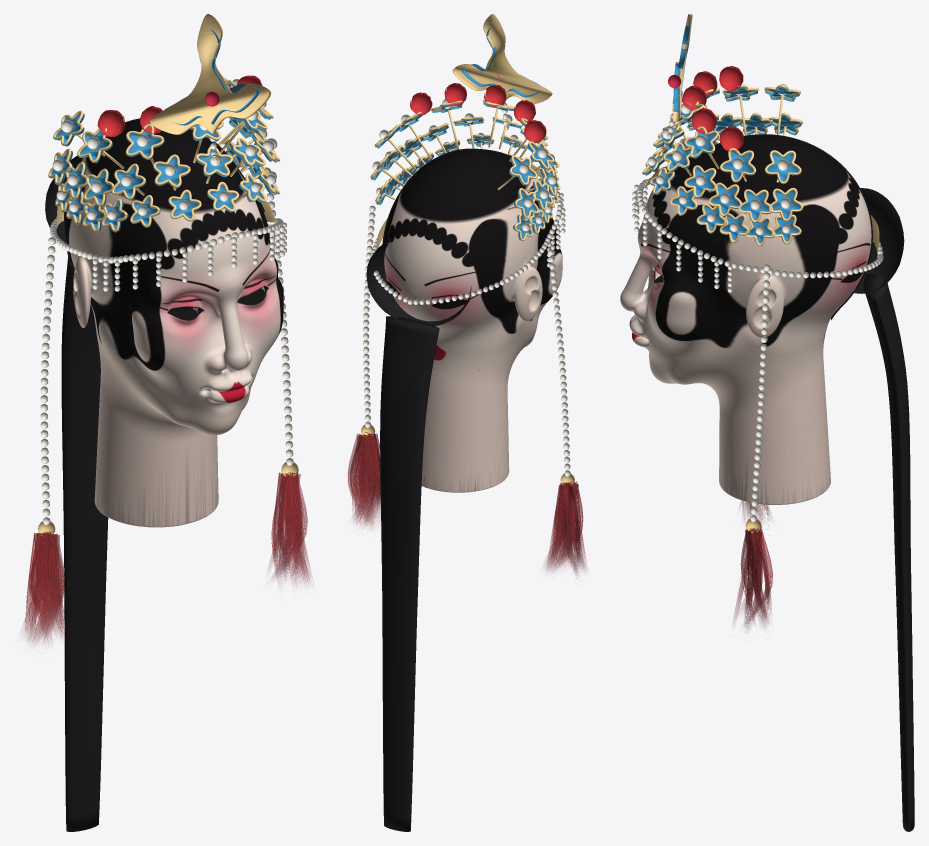
File: head_yangguifei.glb
3 renders of one model, left to right at view 1: azimuth 30°, elevation 25°; view 2: azimuth 150°, elevation 25°; view 3: azimuth 270°, elevation 25°, orthographic. The views are drawn at different scales.
Visible parts, largest first — view 1: Face, Hair_Bun, Feng_Gold, Feng_Pearl, Feng_Tassel, Feng_Cui, Feng_Pom; view 2: Face, Hair_Bun, Feng_Gold, Feng_Pearl, Feng_Tassel, Feng_Cui, Feng_Pom; view 3: Face, Hair_Bun, Feng_Gold, Feng_Cui, Feng_Pearl, Feng_Tassel, Feng_Pom, Wangzi.
Boxes of the visible parts, <box> form: Face: <box>65,120,283,527</box>; Hair_Bun: <box>45,155,108,831</box>; Feng_Gold: <box>38,14,298,536</box>; Feng_Pearl: <box>40,79,293,524</box>; Feng_Tassel: <box>23,472,311,644</box>; Feng_Cui: <box>51,29,277,231</box>; Feng_Pom: <box>97,75,262,136</box>; Face: <box>384,150,562,492</box>; Hair_Bun: <box>366,238,471,831</box>; Feng_Gold: <box>361,14,574,485</box>; Feng_Pearl: <box>363,97,570,476</box>; Feng_Tassel: <box>348,432,586,575</box>; Feng_Cui: <box>372,27,557,240</box>; Feng_Pom: <box>410,83,546,142</box>; Face: <box>620,135,871,504</box>; Hair_Bun: <box>850,188,914,831</box>; Feng_Gold: <box>642,14,879,533</box>; Feng_Cui: <box>645,25,801,243</box>; Feng_Pearl: <box>632,84,883,521</box>; Feng_Tassel: <box>734,500,772,629</box>; Feng_Pom: <box>682,66,744,151</box>; Wangzi: <box>666,134,872,319</box>.
Bounding box in the file's own units: 0.2687 × 0.7937 × 0.2606.
Materials: 10 (3 with a texture image).
